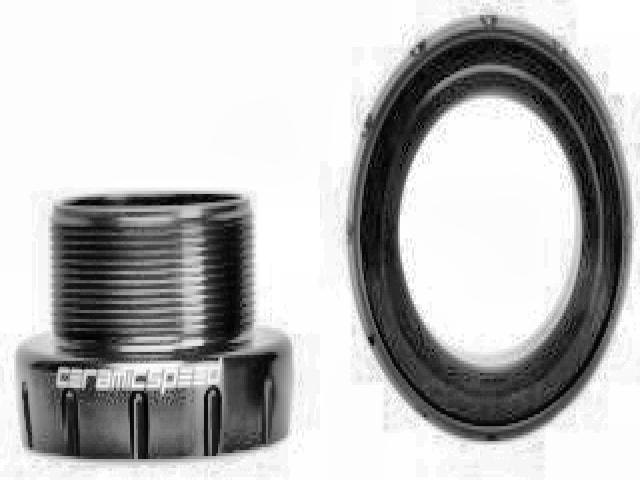bottom_bracket: (343, 13, 635, 446), (15, 188, 295, 457)
